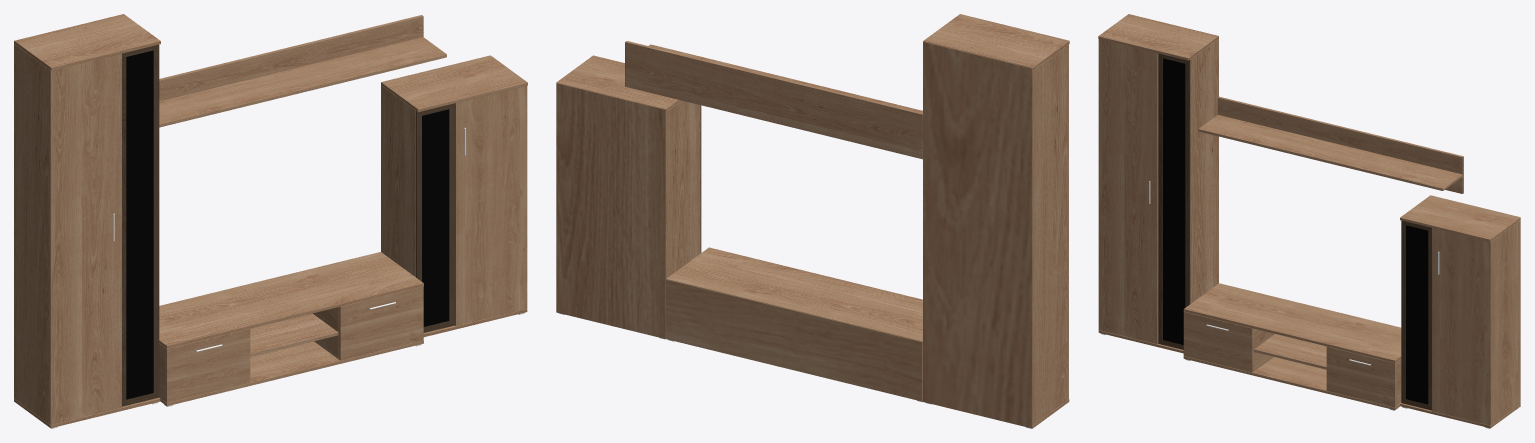
Rendered from living_room_set.glb.
3 views of the same model, side by side, from view 1: azimuth 30°, elevation 25°; view 2: azimuth 150°, elevation 25°; view 3: azimuth 330°, elevation 25° (orthographic). The views are drawn at different scales.
Parts seen in each view (by area): view 1: left door.001, right door.001, left cabinet.001, console.001, top shelf.001, right cabinet.001, drawers.001; view 2: left cabinet.001, right cabinet.001, console.001, top shelf.001, left door.001; view 3: left door.001, right door.001, console.001, top shelf.001, left cabinet.001, right cabinet.001, drawers.001.
Part boxes in pixels (x1,y1,x2,y2): left door.001: (49,44,159,424); right door.001: (416,86,527,332); left cabinet.001: (14,14,160,428); console.001: (159,252,423,405); top shelf.001: (159,15,446,127); right cabinet.001: (381,55,527,336); drawers.001: (165,286,423,402); left cabinet.001: (923,14,1069,428); right cabinet.001: (556,55,700,338); console.001: (666,247,922,401); top shelf.001: (625,41,922,159); left door.001: (1067,44,1068,399); left door.001: (1098,39,1190,349); right door.001: (1401,220,1491,425); console.001: (1183,283,1401,409); top shelf.001: (1198,96,1463,193); left cabinet.001: (1098,14,1218,353); right cabinet.001: (1400,195,1520,428); drawers.001: (1183,311,1396,407).
Size of the model in its own units: 2.56 by 1.86 by 0.412.
Materials: 5 (2 with a texture image).
